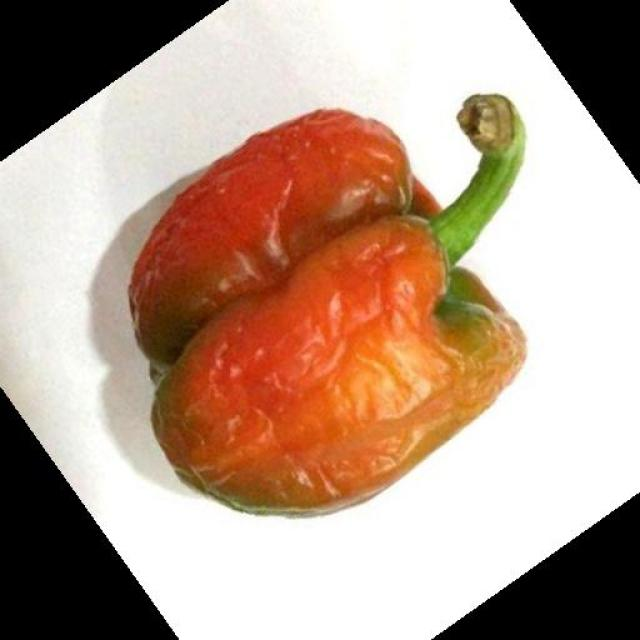Stale_Capsicum: (122, 82, 575, 516)
